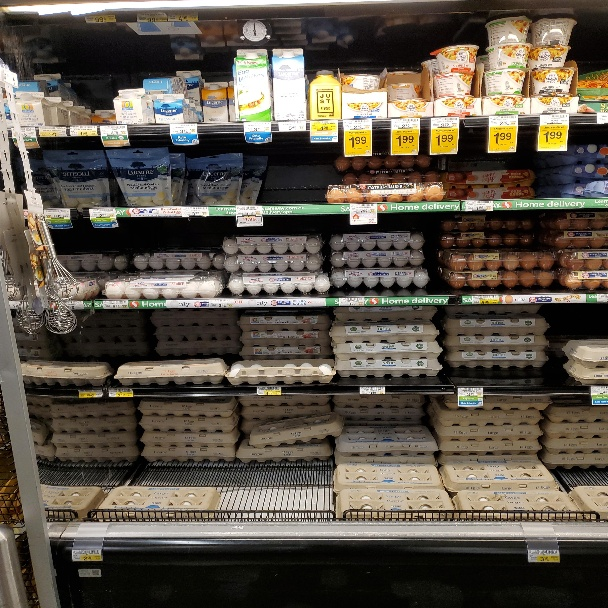All PRICE TAGS: (527, 549, 560, 562), (72, 549, 102, 561), (310, 120, 338, 132), (541, 114, 569, 126), (591, 385, 607, 405), (490, 116, 518, 127), (70, 125, 99, 135), (169, 123, 198, 133), (430, 117, 459, 127), (100, 124, 128, 134), (392, 118, 420, 128), (44, 209, 71, 219), (466, 201, 493, 211), (344, 119, 371, 129), (235, 205, 262, 215), (349, 203, 376, 213), (136, 12, 166, 21), (244, 122, 270, 132), (280, 121, 306, 131), (458, 387, 483, 397), (39, 127, 66, 136), (472, 295, 499, 304), (170, 12, 197, 21), (90, 209, 116, 218), (157, 207, 182, 216), (182, 206, 207, 215), (12, 128, 36, 137), (101, 300, 128, 308), (338, 298, 365, 306), (257, 386, 281, 395), (360, 387, 385, 395), (109, 389, 133, 397), (59, 301, 82, 309), (210, 300, 232, 308), (78, 390, 103, 397), (85, 17, 116, 22)
